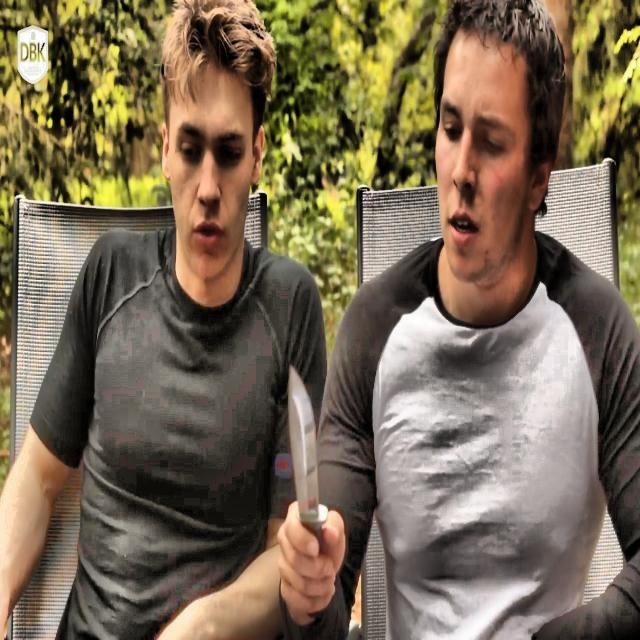knife: (288, 366, 328, 616)
